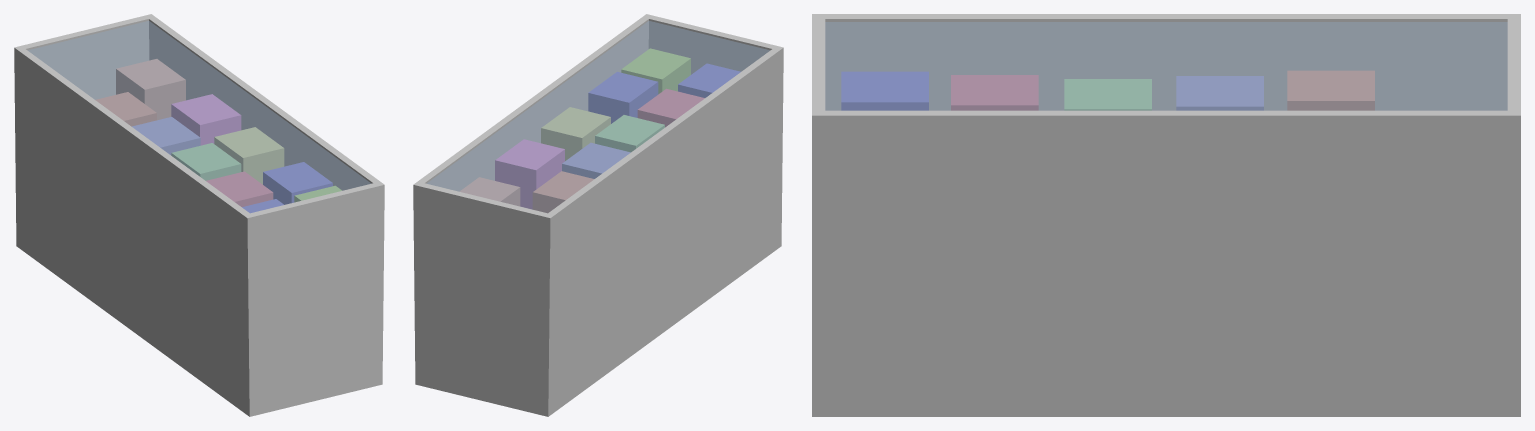
The model's file is fryser.gltf.
3 views of the same model, side by side, from view 1: azimuth 30°, elevation 25°; view 2: azimuth 150°, elevation 25°; view 3: azimuth 270°, elevation 25° (orthographic). The views are drawn at different scales.
Visible parts, largest first — view 1: Cube, glass, Cube.011, Cube.009, Cube.007, Cube.003, Cube.006, Cube.008, Cube.005, Cube.010; view 2: Cube, glass, Cube.009, Cube.003, Cube.007, Cube.002, Cube.006, Cube.008, Cube.005, Cube.010, Cube.004, Cube.011; view 3: Cube, glass, Cube.010, Cube.004, Cube.005, Cube.008, Cube.006.
Boxes of the visible parts, x1,y1,x2,y2 form: Cube: [14, 14, 384, 416]; glass: [28, 21, 370, 212]; Cube.011: [116, 59, 185, 120]; Cube.009: [171, 94, 241, 145]; Cube.007: [214, 127, 284, 184]; Cube.003: [263, 162, 332, 204]; Cube.006: [171, 143, 241, 180]; Cube.008: [132, 117, 200, 154]; Cube.005: [206, 171, 273, 206]; Cube.010: [95, 92, 156, 126]; Cube: [413, 14, 783, 416]; glass: [427, 21, 769, 212]; Cube.009: [495, 139, 564, 209]; Cube.003: [588, 72, 658, 123]; Cube.007: [541, 107, 610, 160]; Cube.002: [621, 48, 690, 93]; Cube.006: [595, 115, 664, 152]; Cube.008: [562, 143, 630, 178]; Cube.005: [637, 89, 704, 127]; Cube.010: [532, 171, 594, 213]; Cube.004: [678, 63, 740, 97]; Cube.011: [460, 177, 520, 206]; Cube: [812, 14, 1520, 416]; glass: [825, 22, 1507, 110]; Cube.010: [1287, 70, 1374, 110]; Cube.004: [841, 71, 928, 110]; Cube.005: [951, 75, 1038, 110]; Cube.008: [1176, 76, 1263, 110]; Cube.006: [1064, 79, 1151, 110].
Size of the model in its own units: 1.41 by 1.95 by 4.15.
